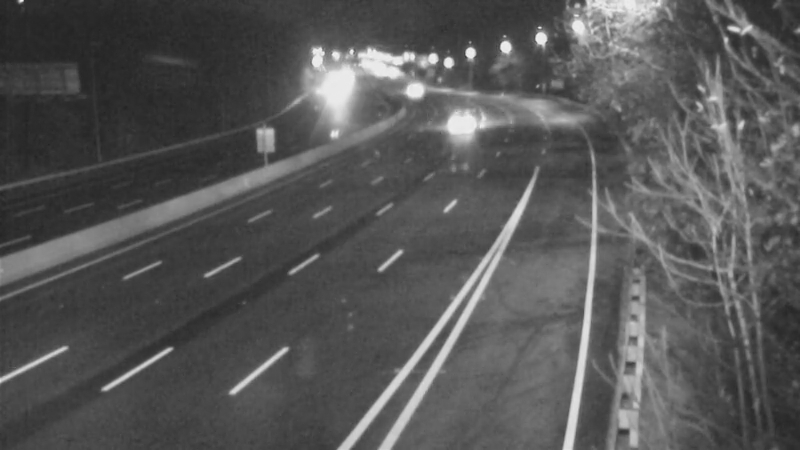vehicle: (393, 61, 443, 111), (434, 102, 484, 152)
